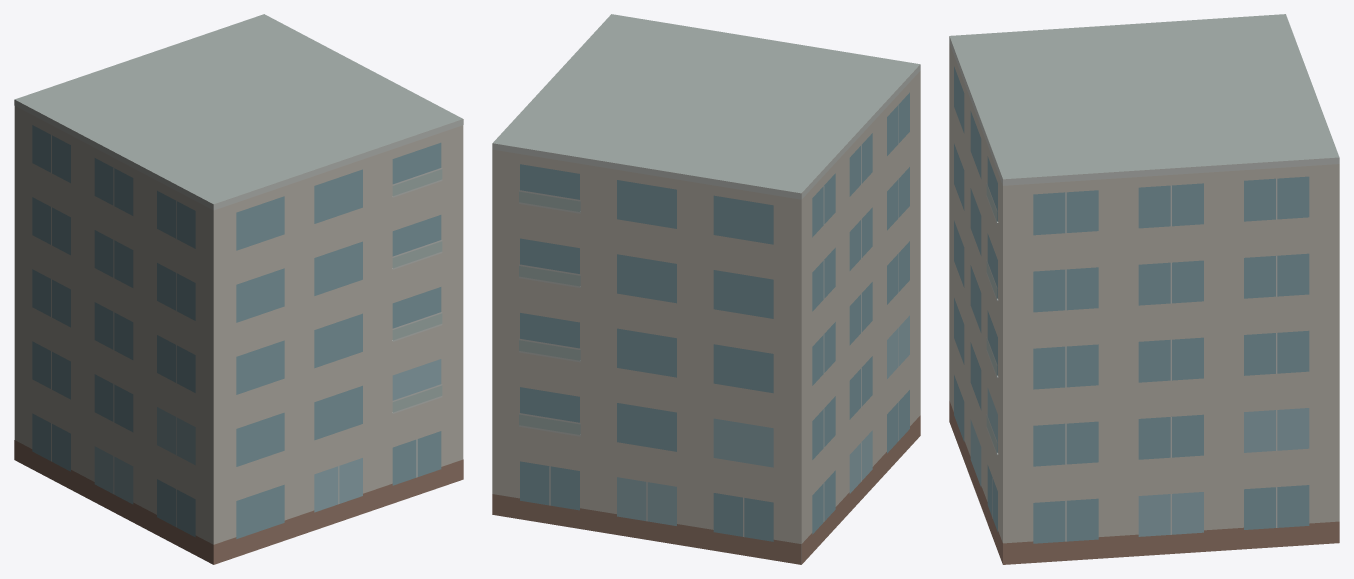
The model's file is survey-upis-32901862.glb.
3 views of the same model, side by side, from view 1: azimuth 30°, elevation 25°; view 2: azimuth 150°, elevation 25°; view 3: azimuth 270°, elevation 25° (orthographic). The views are drawn at different scales.
Parts seen in each view (by area): view 1: survey-upis-32901862.tmp; view 2: survey-upis-32901862.tmp; view 3: survey-upis-32901862.tmp.
Part boxes in pixels (bbox=[...]): survey-upis-32901862.tmp: bbox=[14, 14, 463, 564]; survey-upis-32901862.tmp: bbox=[492, 14, 920, 564]; survey-upis-32901862.tmp: bbox=[949, 14, 1339, 564].
Size of the model in its own units: 13.25 by 14.4 by 13.22.
